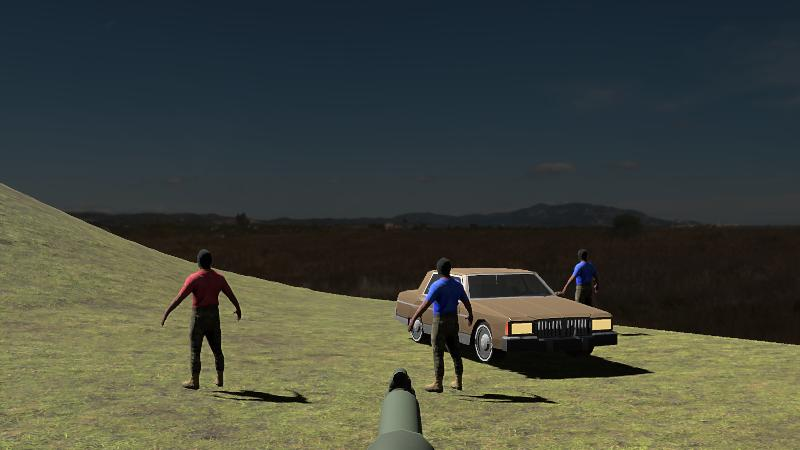Human: (161, 247, 241, 391), (411, 258, 474, 394), (564, 248, 599, 338)
car: (406, 266, 617, 365)
